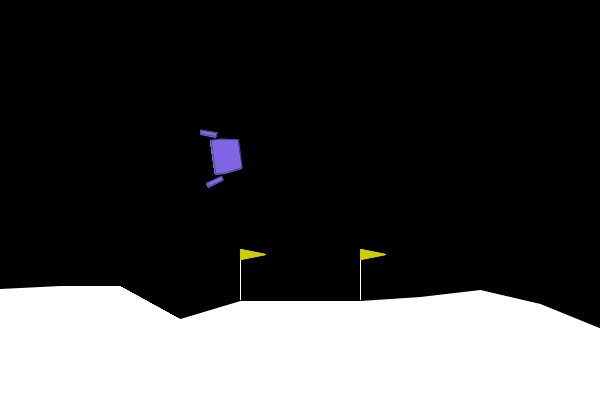lander: (198, 124, 246, 189)
